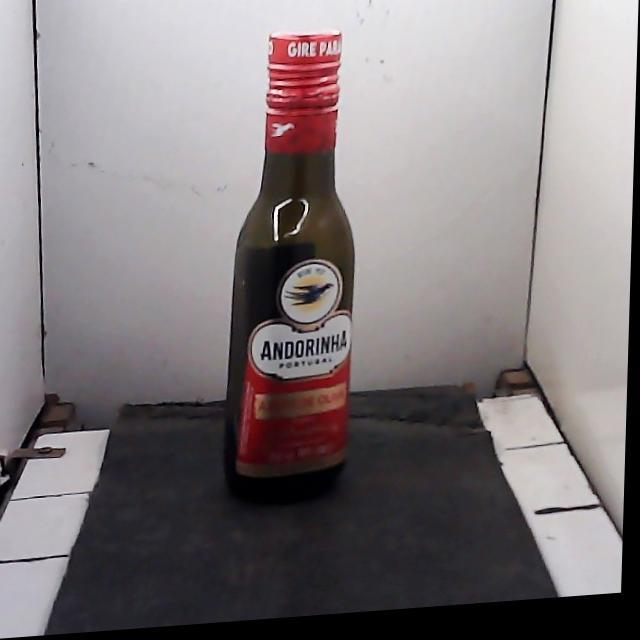vidro: (225, 31, 354, 497)
